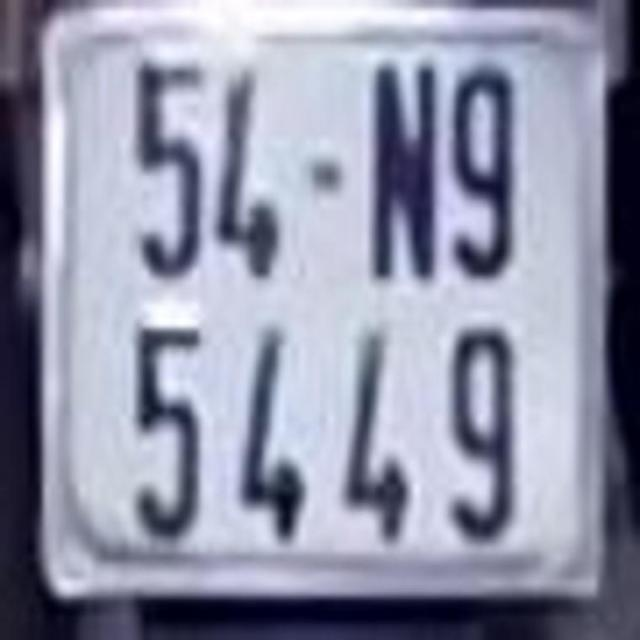4: (230, 319, 310, 546), (336, 321, 414, 545), (211, 57, 282, 282)
5: (129, 58, 204, 279), (128, 320, 204, 538)
9: (446, 55, 518, 284), (442, 321, 514, 545)
N: (368, 57, 440, 281)
